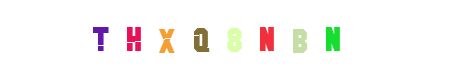8: (165, 0, 245, 80)
B: (225, 0, 305, 80)
H: (120, 0, 200, 80)
N: (184, 0, 264, 80), (293, 0, 373, 80)
Q: (161, 0, 241, 80)
T: (60, 0, 140, 80)
X: (126, 0, 206, 80)
